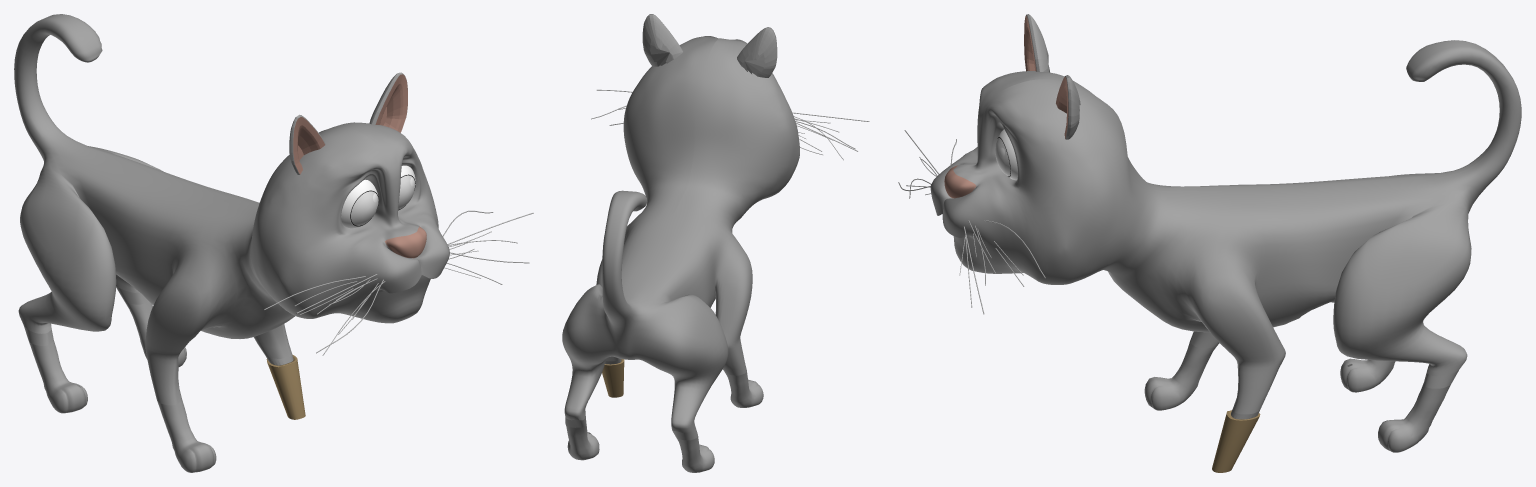
Rendered from M_Atun.fbx.
3 renders of one model, left to right at view 1: azimuth 30°, elevation 25°; view 2: azimuth 150°, elevation 25°; view 3: azimuth 270°, elevation 25°, orthographic. The views are drawn at different scales.
Parts seen in each view (by area): view 1: C_Atun1, polySurface26, polySurface25, L_eye_cone_GEO, L_eye_GEO; view 2: C_Atun1, polySurface25, polySurface26; view 3: C_Atun1, polySurface25, polySurface26.
Part boxes in pixels (left/top/right/bottom): C_Atun1: left=14, top=14, right=449, bottom=472; polySurface26: left=369, top=72, right=407, bottom=132; polySurface25: left=289, top=114, right=325, bottom=174; L_eye_cone_GEO: left=351, top=191, right=378, bottom=225; L_eye_GEO: left=341, top=179, right=378, bottom=228; C_Atun1: left=562, top=36, right=799, bottom=472; polySurface25: left=737, top=27, right=777, bottom=77; polySurface26: left=642, top=14, right=682, bottom=66; C_Atun1: left=930, top=40, right=1521, bottom=472; polySurface25: left=1024, top=14, right=1049, bottom=72; polySurface26: left=1056, top=75, right=1080, bottom=139.
Size of the model in its own units: 2.74 by 3.25 by 4.49.
